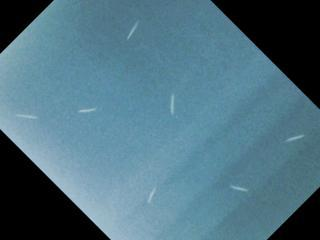scratch: (279, 128, 309, 149), (122, 16, 142, 47), (72, 103, 102, 117), (166, 91, 181, 118), (224, 181, 251, 195), (143, 183, 159, 206), (10, 112, 42, 123)
